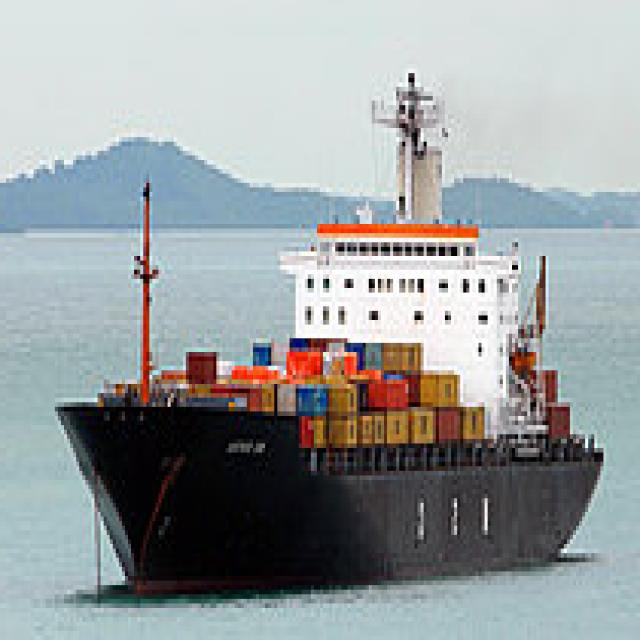Cargo: (55, 64, 609, 603)
